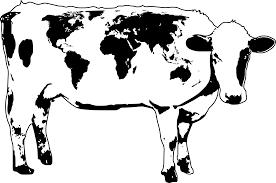cow: (0, 3, 276, 183)
